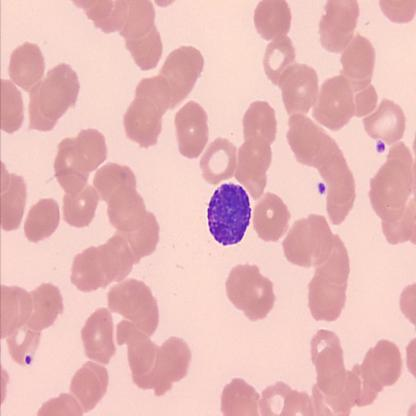Basophil: (206, 180, 253, 248)
